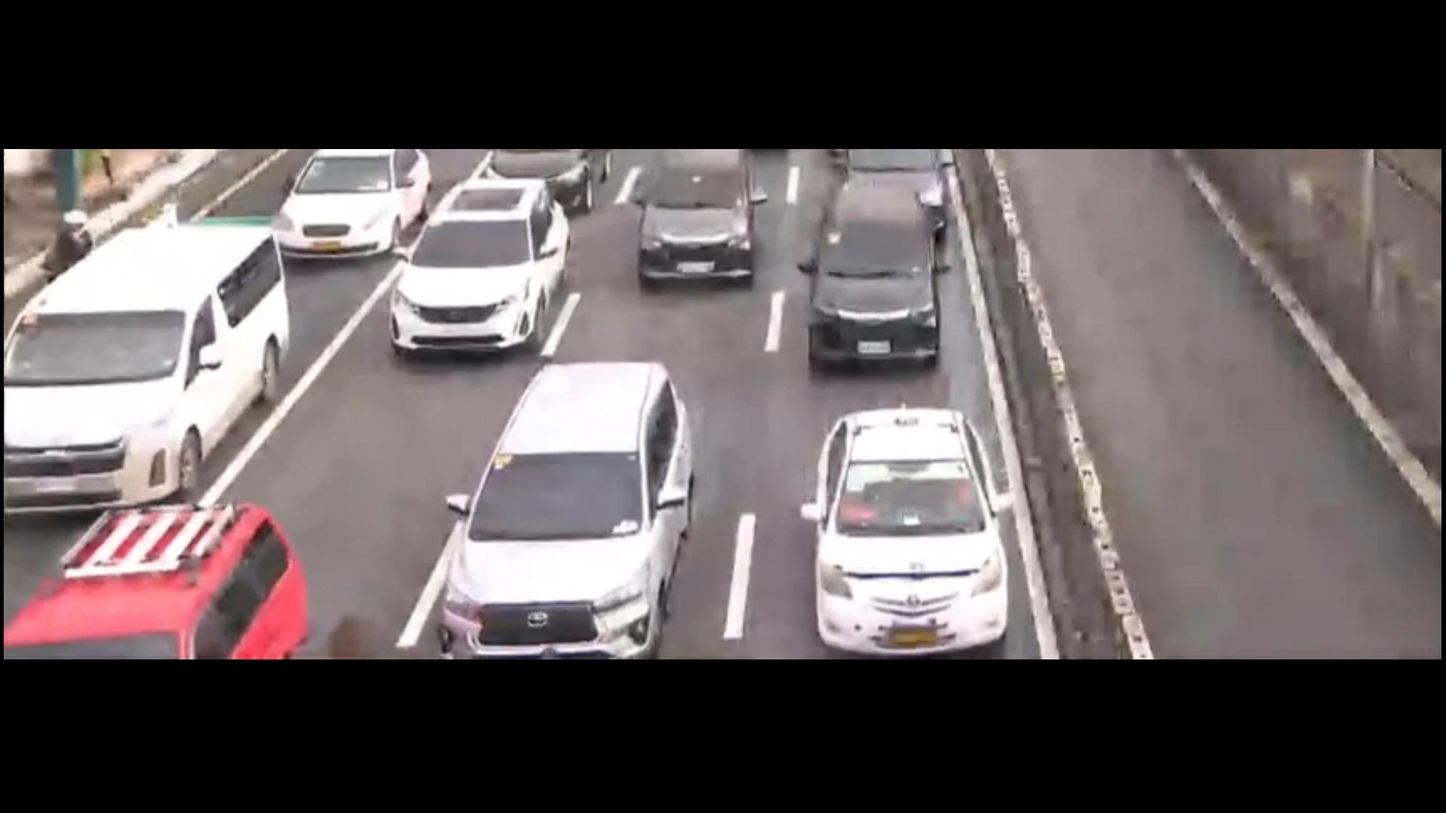SUV: (433, 362, 693, 661), (0, 508, 309, 655), (385, 178, 571, 362), (809, 190, 942, 375)
Sedan: (806, 407, 1011, 655), (270, 150, 431, 262), (639, 152, 754, 274)
Van: (0, 226, 288, 510)
